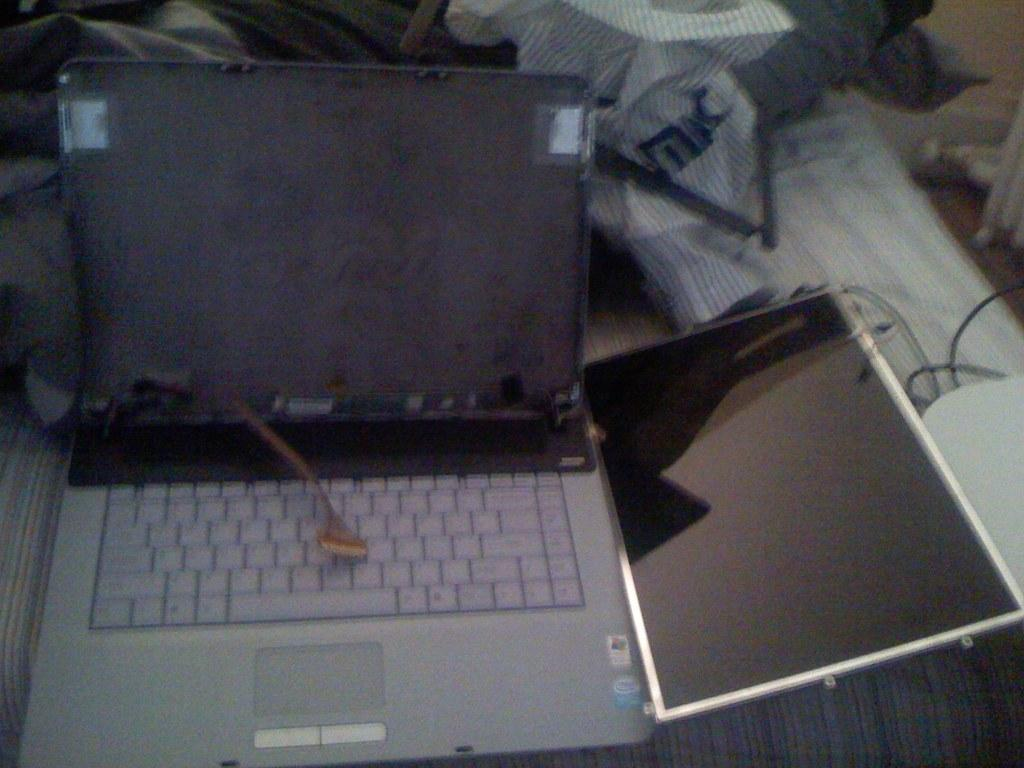Computer-keyboard: (91, 468, 587, 630)
